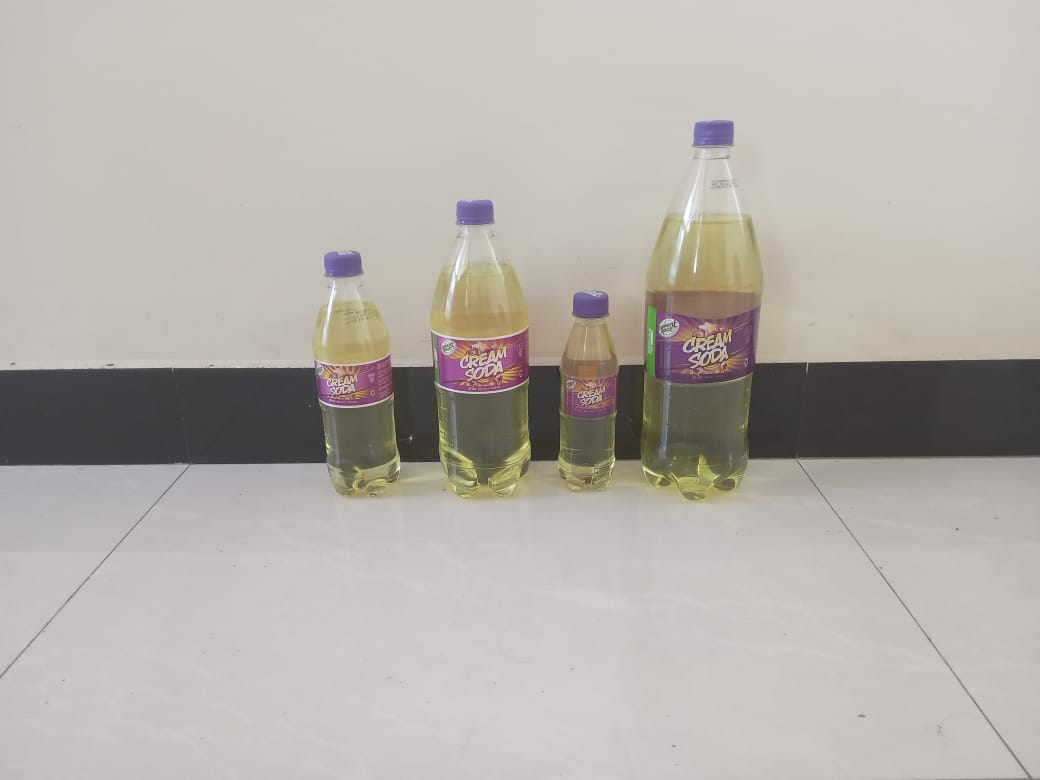L: (643, 119, 760, 500)
M: (426, 199, 538, 502)
S: (305, 251, 406, 499)
Xs: (552, 294, 623, 493)
